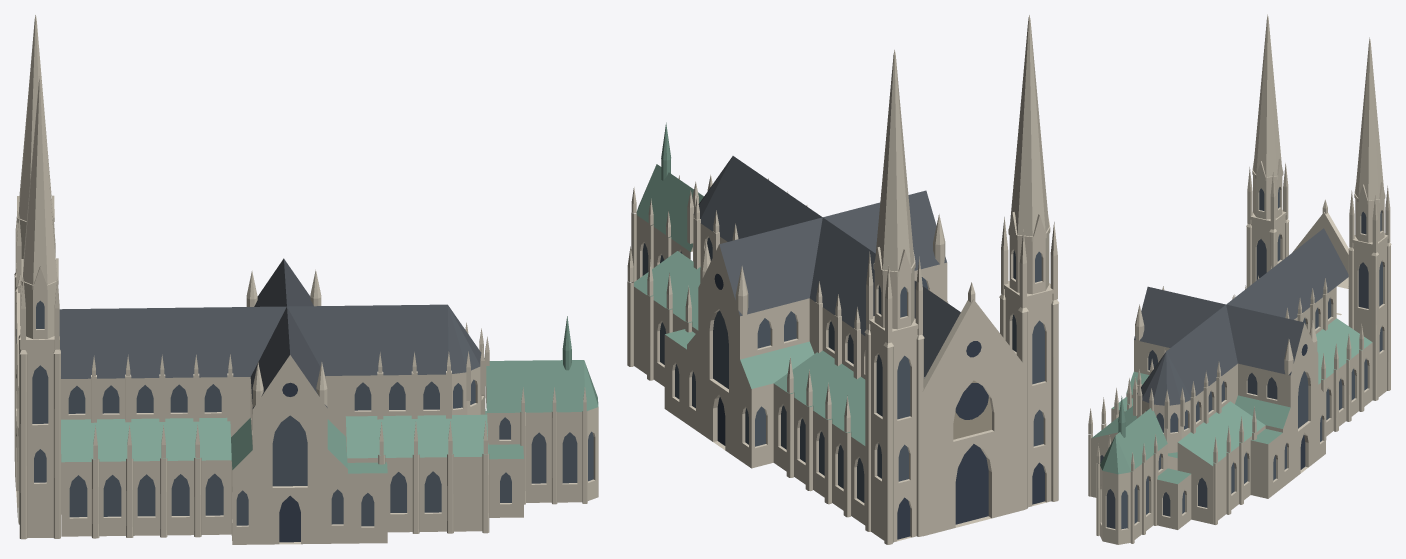
Rendered from detail.glb.
3 renders of one model, left to right at view 1: azimuth 30°, elevation 25°; view 2: azimuth 150°, elevation 25°; view 3: azimuth 270°, elevation 25°, orthographic. The views are drawn at different scales.
Parts seen in each view (by area): view 1: st-patricks-cathedral; view 2: st-patricks-cathedral; view 3: st-patricks-cathedral.
Boxes of the visible parts, x1,y1,x2,y2 form: st-patricks-cathedral: (14,15,598,544); st-patricks-cathedral: (627,15,1059,544); st-patricks-cathedral: (1088,14,1391,544).
Size of the model in its own units: 113 by 100 by 77.96.
